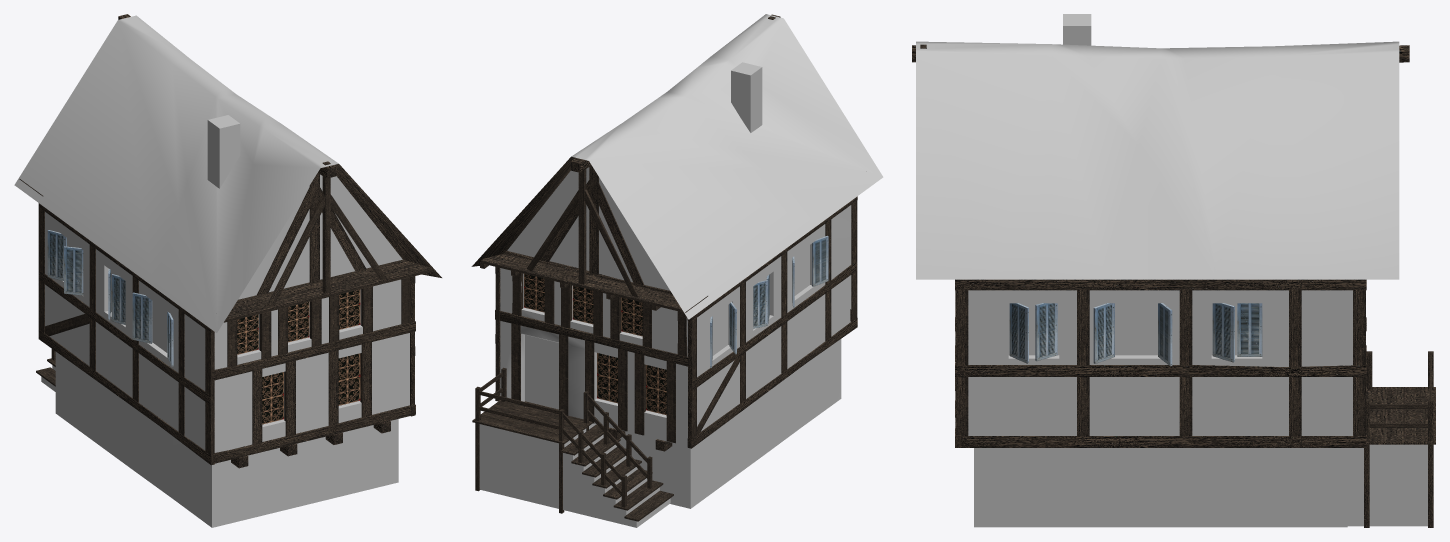
Rendered from house1.fbx.
The picture shows the model from 3 angles, left to right: view 1: azimuth 30°, elevation 25°; view 2: azimuth 150°, elevation 25°; view 3: azimuth 270°, elevation 25°; orthographic projection. The views are drawn at different scales.
Visible parts, largest first — view 1: Mesh Object; view 2: Mesh Object; view 3: Mesh Object.
Boxes of the visible parts, <box> form: Mesh Object: <box>14,14,441,527</box>; Mesh Object: <box>471,14,883,527</box>; Mesh Object: <box>912,14,1435,527</box>.
Bounding box in the file's own units: 9.76 × 14.89 × 16.3.
